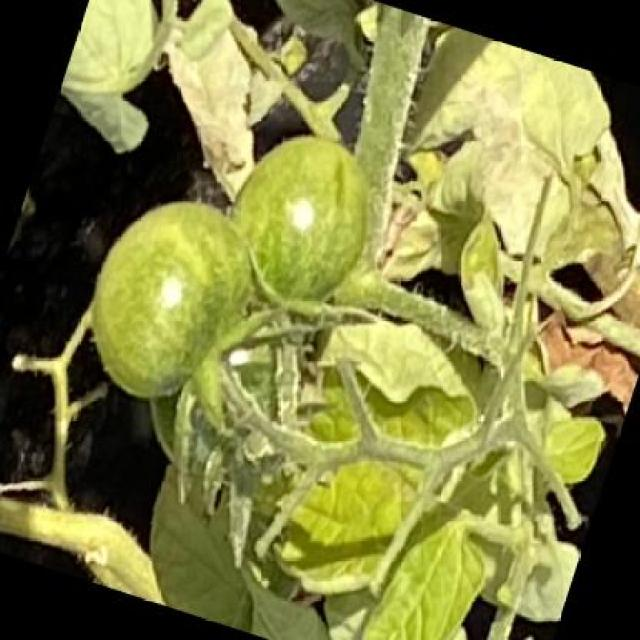unripe tomato: (58, 177, 272, 428), (199, 113, 398, 336)
